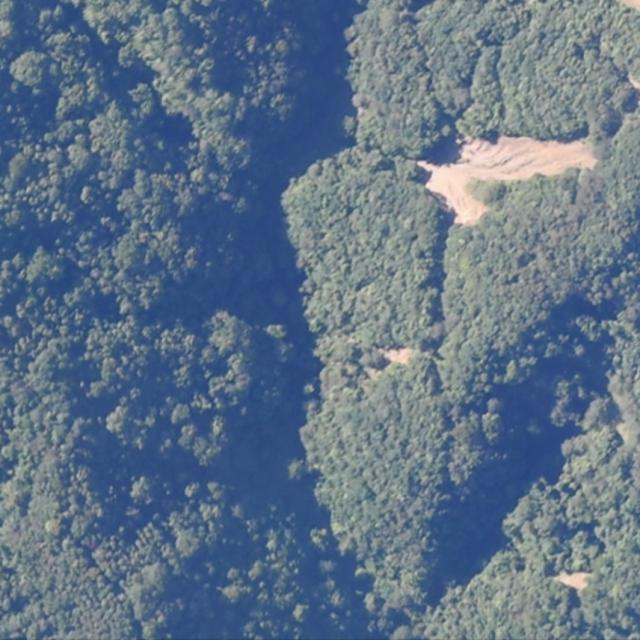landslide: (418, 134, 599, 225)
